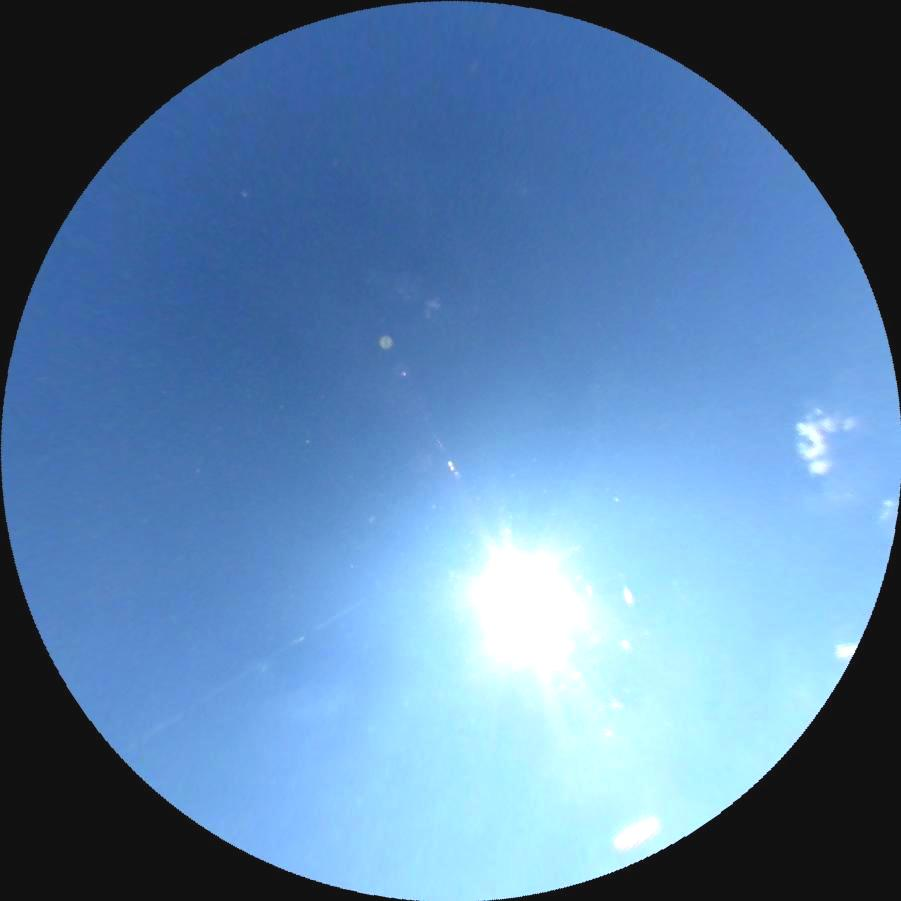parasite: (164, 593, 370, 727)
sun: (464, 544, 578, 656)
